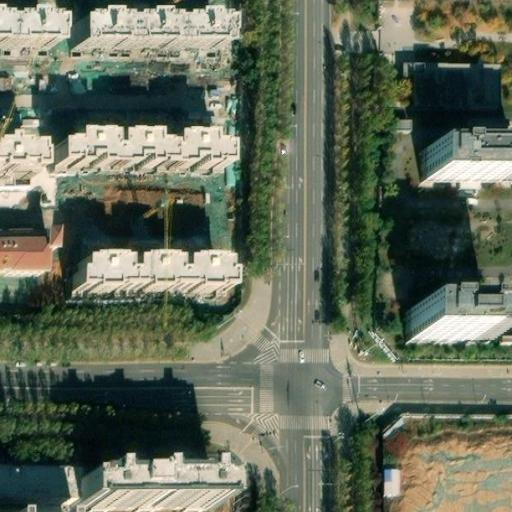building: (51, 136, 220, 168), (77, 469, 221, 506), (75, 16, 222, 47), (71, 262, 227, 291), (404, 62, 498, 110), (422, 148, 512, 182), (407, 304, 484, 339), (0, 13, 55, 47), (0, 142, 38, 171), (377, 464, 396, 497)
